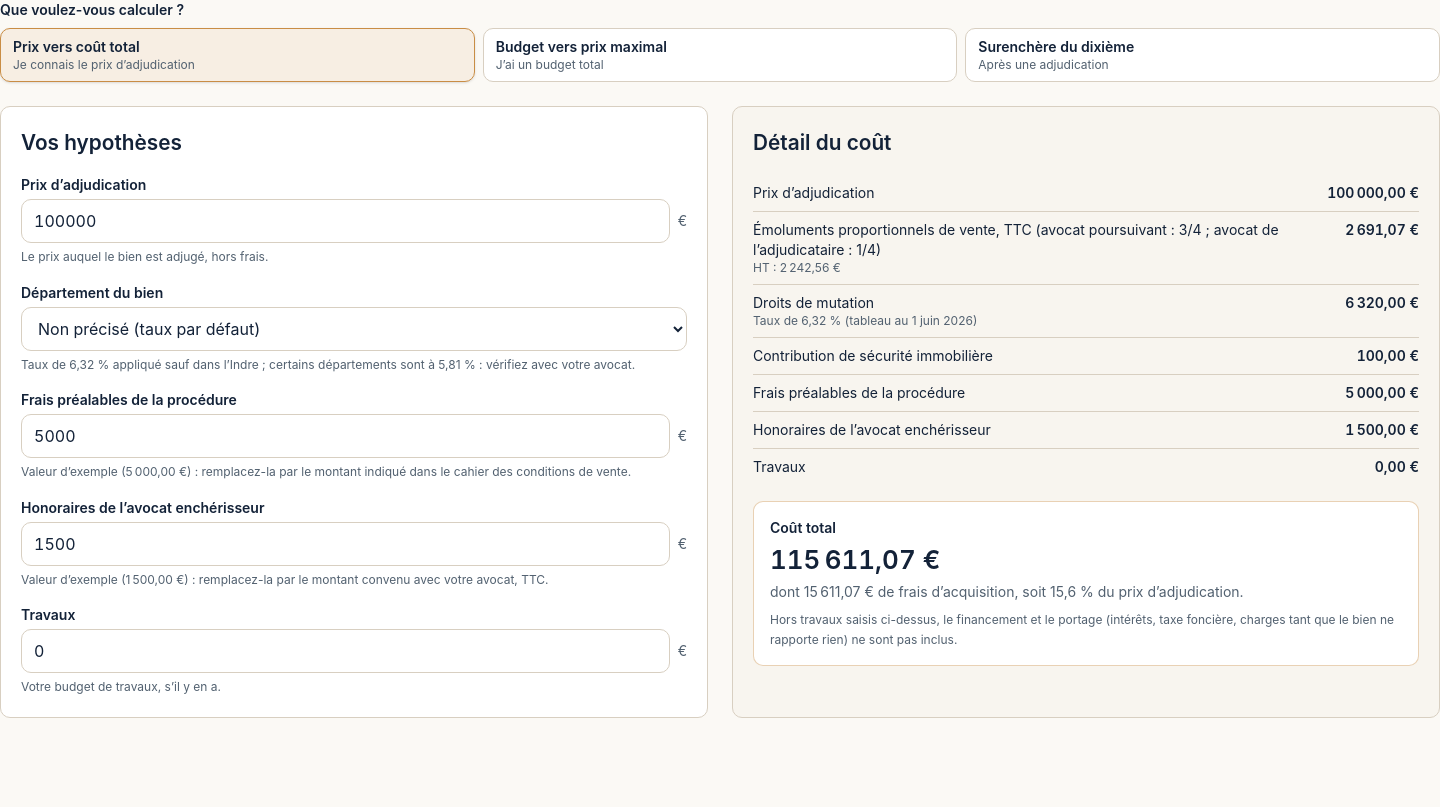
it: mode inverse : budget vers prix maximal › dit qu'un budget trop faible ne couvre même pas les frais fixes
Click the radio button labelled "Budget vers prix maximal J’ai un budget total": click(581, 46) [483, 28, 957, 82]
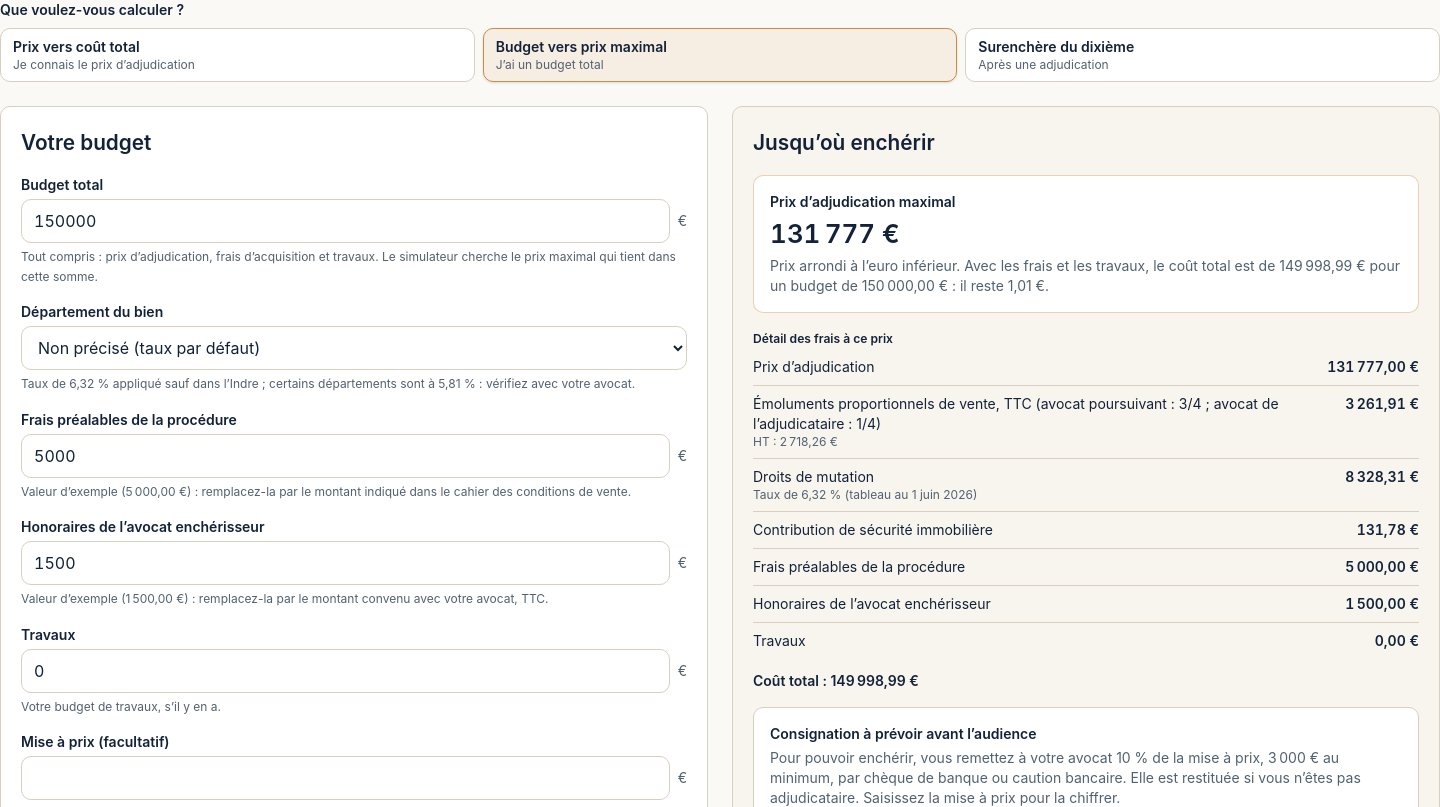
Replace the text in the number field labelled "Budget total" with "2000": (345, 221) [21, 199, 670, 243]
(page scrolled)
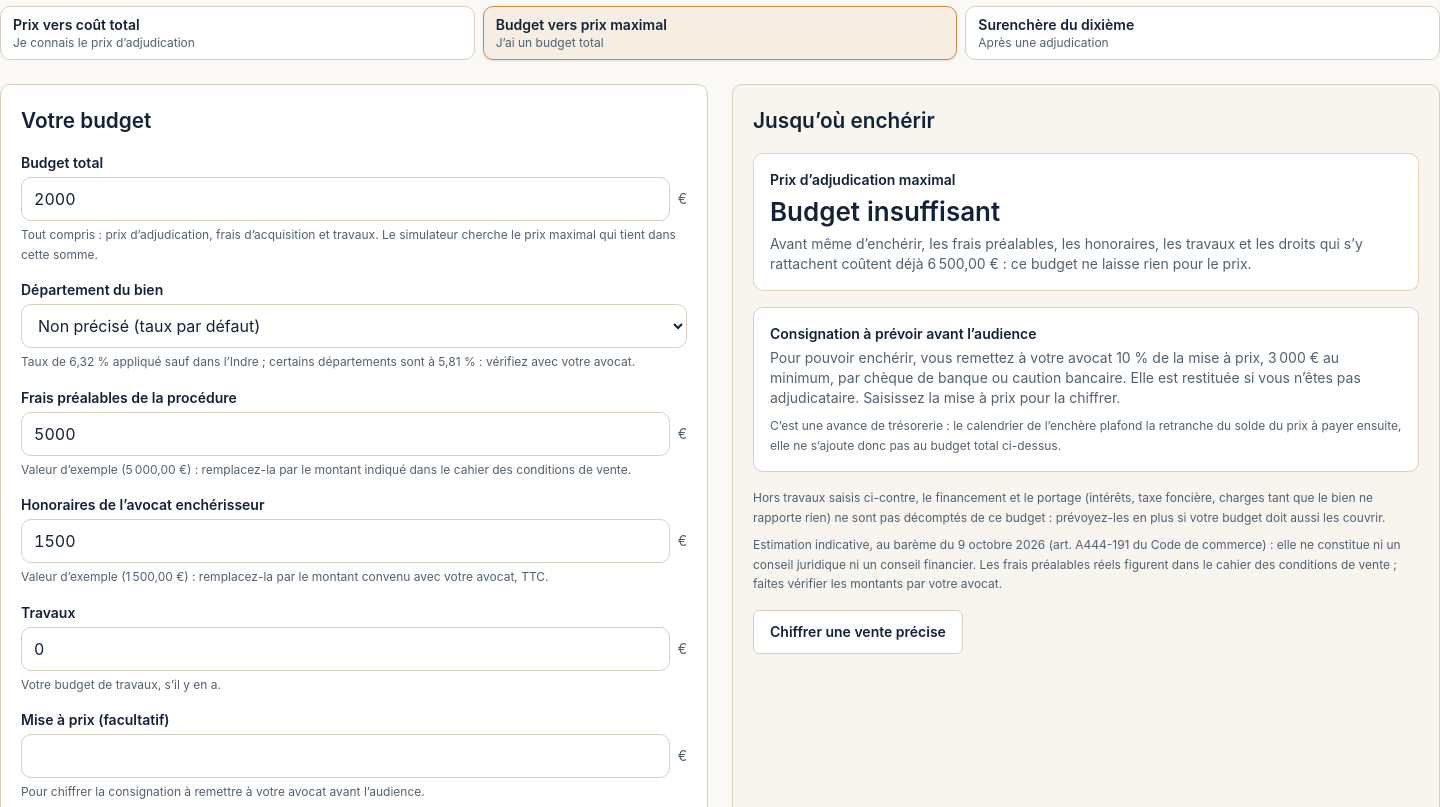
Check: the text "Budget insuffisant" is shown, box [770, 196, 1000, 227]
